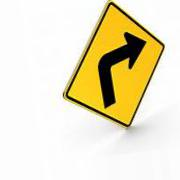right: (63, 2, 165, 128)
